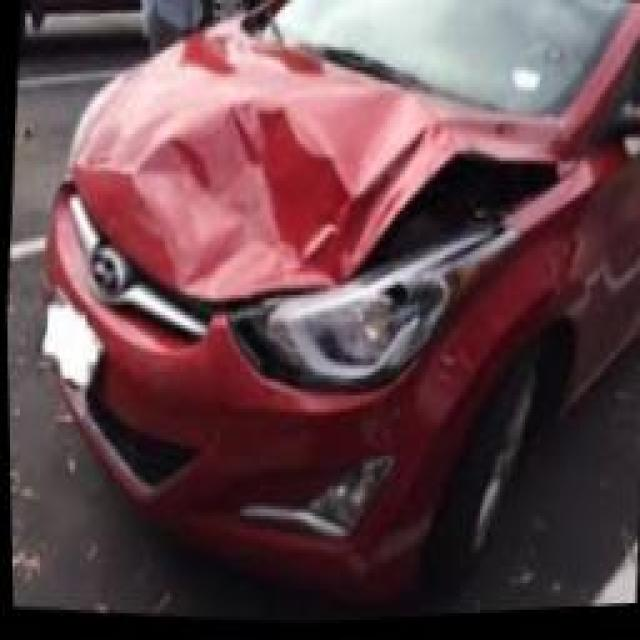Bonnet: (67, 15, 568, 309)
